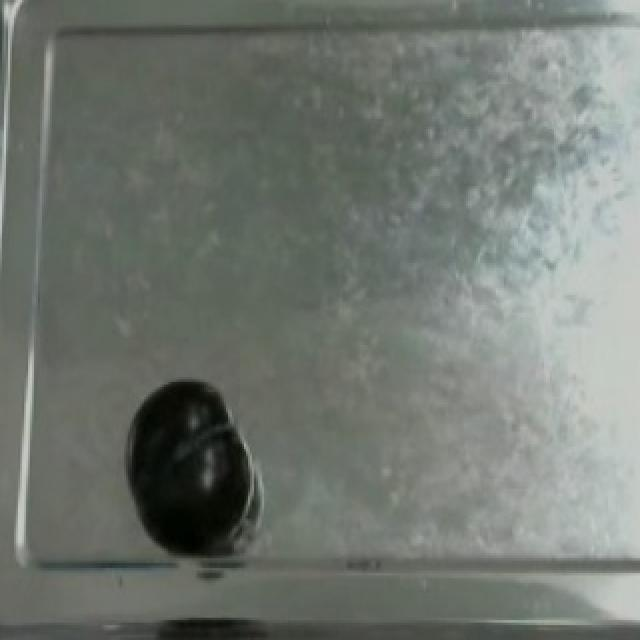Fruit: (124, 370, 250, 550)
